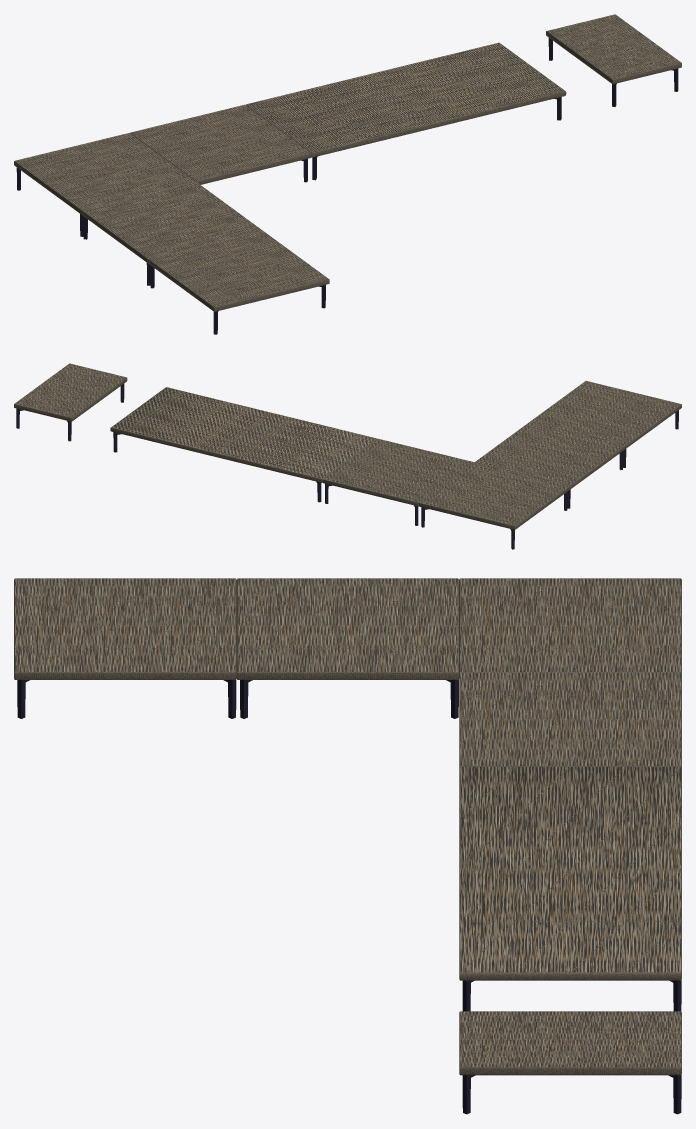
File: _ofa.fbx
3 views of the same model, one above another, from view 1: azimuth 30°, elevation 25°; view 2: azimuth 150°, elevation 25°; view 3: azimuth 270°, elevation 25° (orthographic). The views are drawn at different scales.
Visible parts, largest first — view 1: Sofa; view 2: Sofa; view 3: Sofa.
Boxes of the visible parts, x1,y1,x2,y2 form: Sofa: (14,14,681,334); Sofa: (14,363,681,549); Sofa: (14,578,681,1114).
Bounding box in the file's own units: 3.9 × 0.18 × 2.25.
